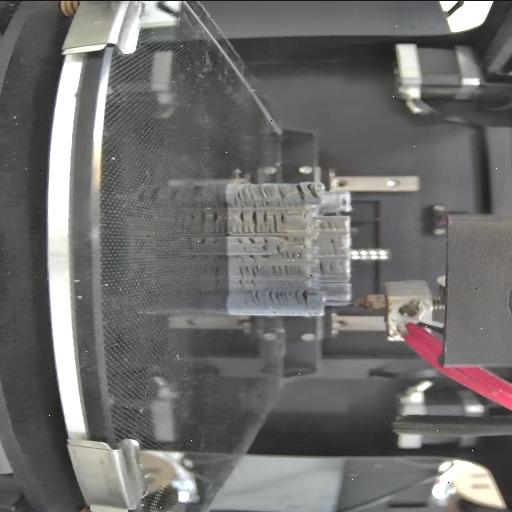cracks: (234, 184, 288, 208), (254, 290, 310, 306), (236, 209, 270, 233), (296, 182, 318, 202), (271, 264, 303, 276), (237, 264, 263, 278), (316, 260, 336, 276), (272, 213, 288, 232), (232, 254, 270, 262), (236, 280, 260, 290), (282, 234, 308, 243), (259, 236, 271, 252), (233, 236, 256, 244), (282, 250, 304, 258), (320, 219, 336, 230), (330, 236, 339, 254), (276, 244, 282, 250)
